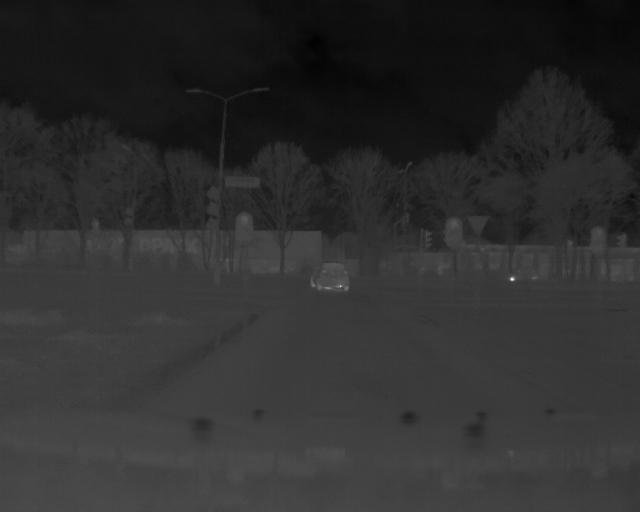car: (310, 258, 352, 301)
